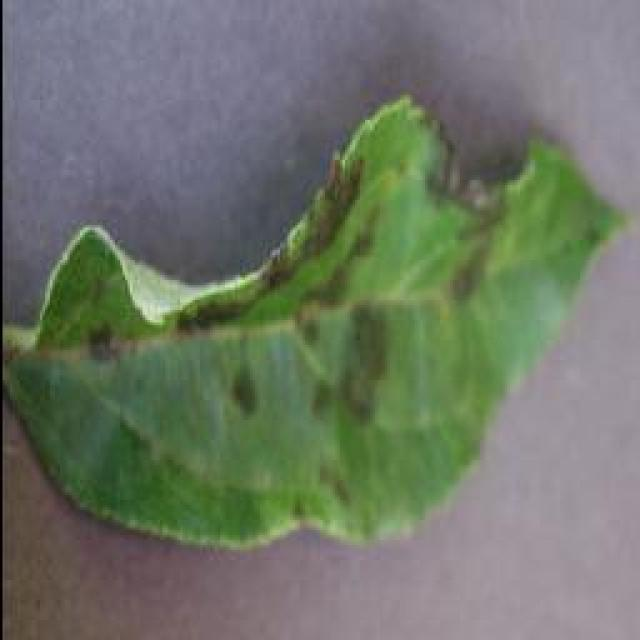apple scab disease: (0, 90, 628, 552)
